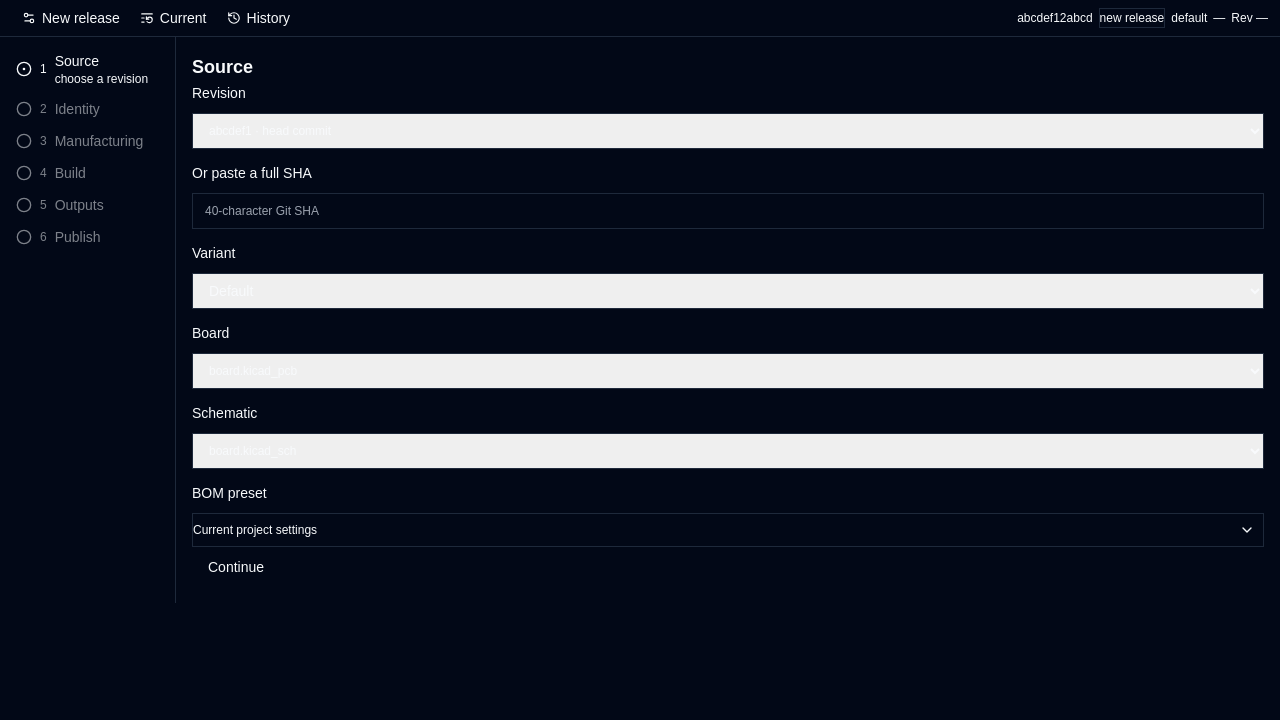
Scenario: ReleaseStudioPanel › remembers source picks when continuing to identity
Click the button "Continue". click: (236, 567)
box: [192,547,280,587]
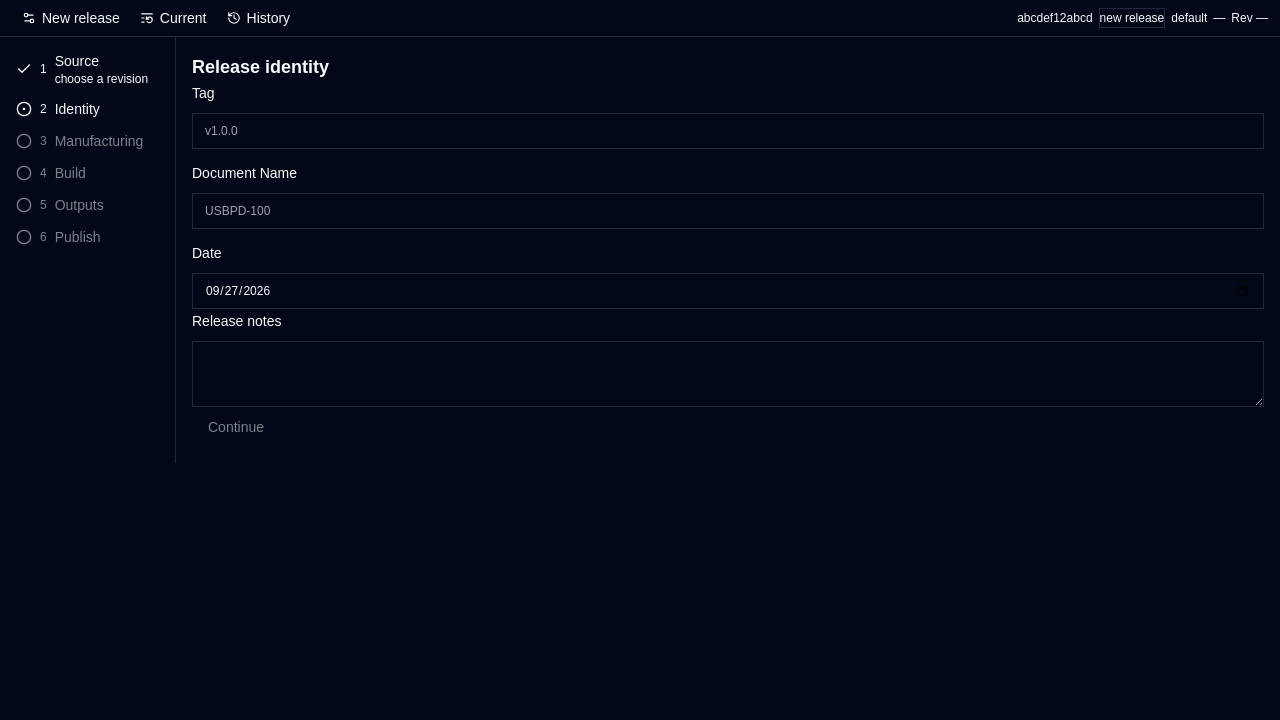
Expected: the heading "Release identity" is shown, [192,57,329,77]
